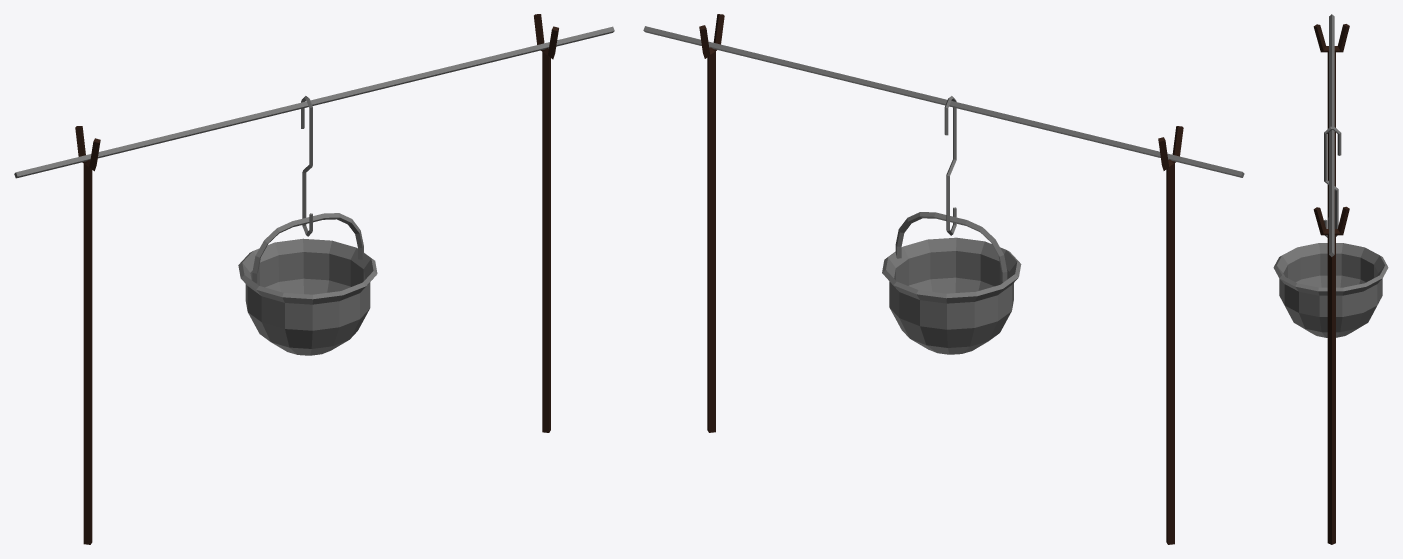
The model's file is SM_pot_fire_stand.fbx.
3 renders of one model, left to right at view 1: azimuth 30°, elevation 25°; view 2: azimuth 150°, elevation 25°; view 3: azimuth 270°, elevation 25°, orthographic. The views are drawn at different scales.
Visible parts, largest first — view 1: Line023; view 2: Line023; view 3: Line023.
Boxes of the visible parts, x1,y1,x2,y2 form: Line023: (14,14,614,544); Line023: (643,14,1244,544); Line023: (1273,14,1388,544).
Bounding box in the file's own units: 118 × 77.74 × 24.15.
